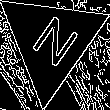N_SW: (22, 10, 80, 73)
